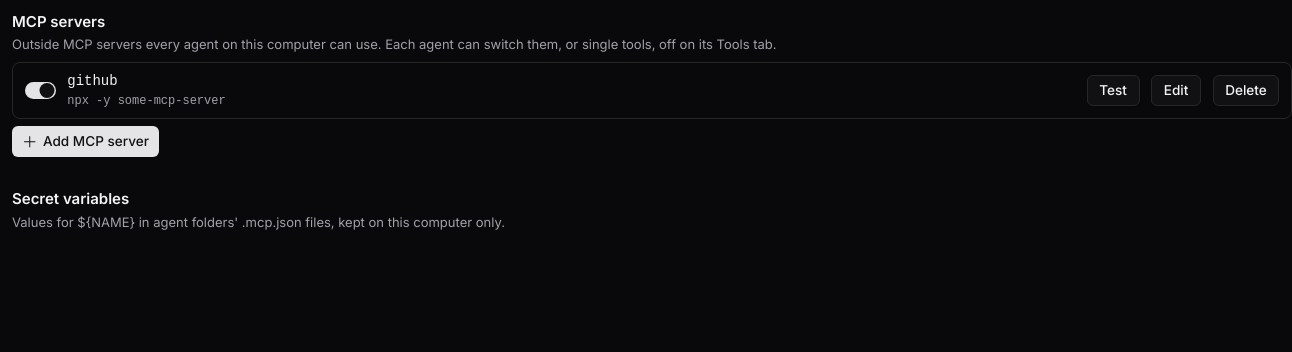
Test: McpServersGroup › test Test lists the tools and shows a failure's message
This screenshot has width=1292, height=352.
Later steps or results of the test are not shown.
What coordinates should you click on to do the following:
click the button "Test"
I would click on:
 (1113, 90)
Its box is x1=1087 y1=75 x2=1140 y2=106.
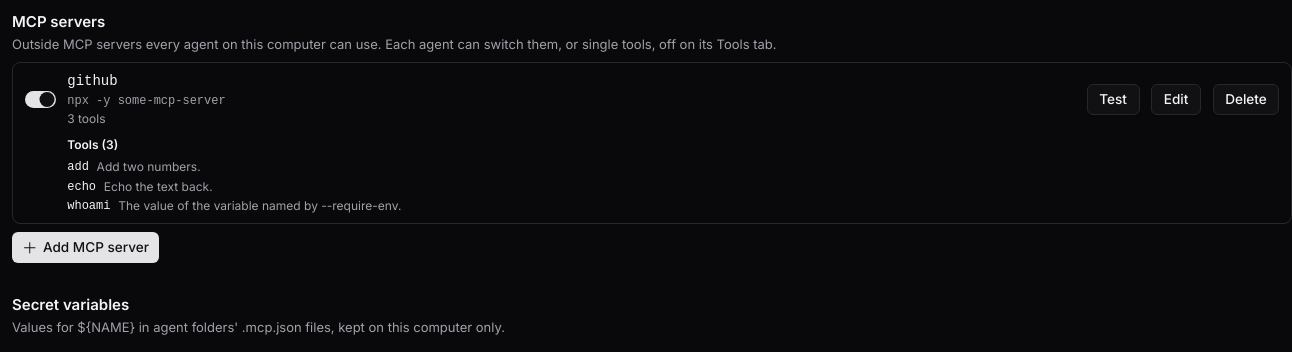
Expected: the text "echo" is shown, x1=67 y1=178 x2=96 y2=196
Expected: the text "Echo the text back." is shown, x1=104 y1=178 x2=213 y2=196
